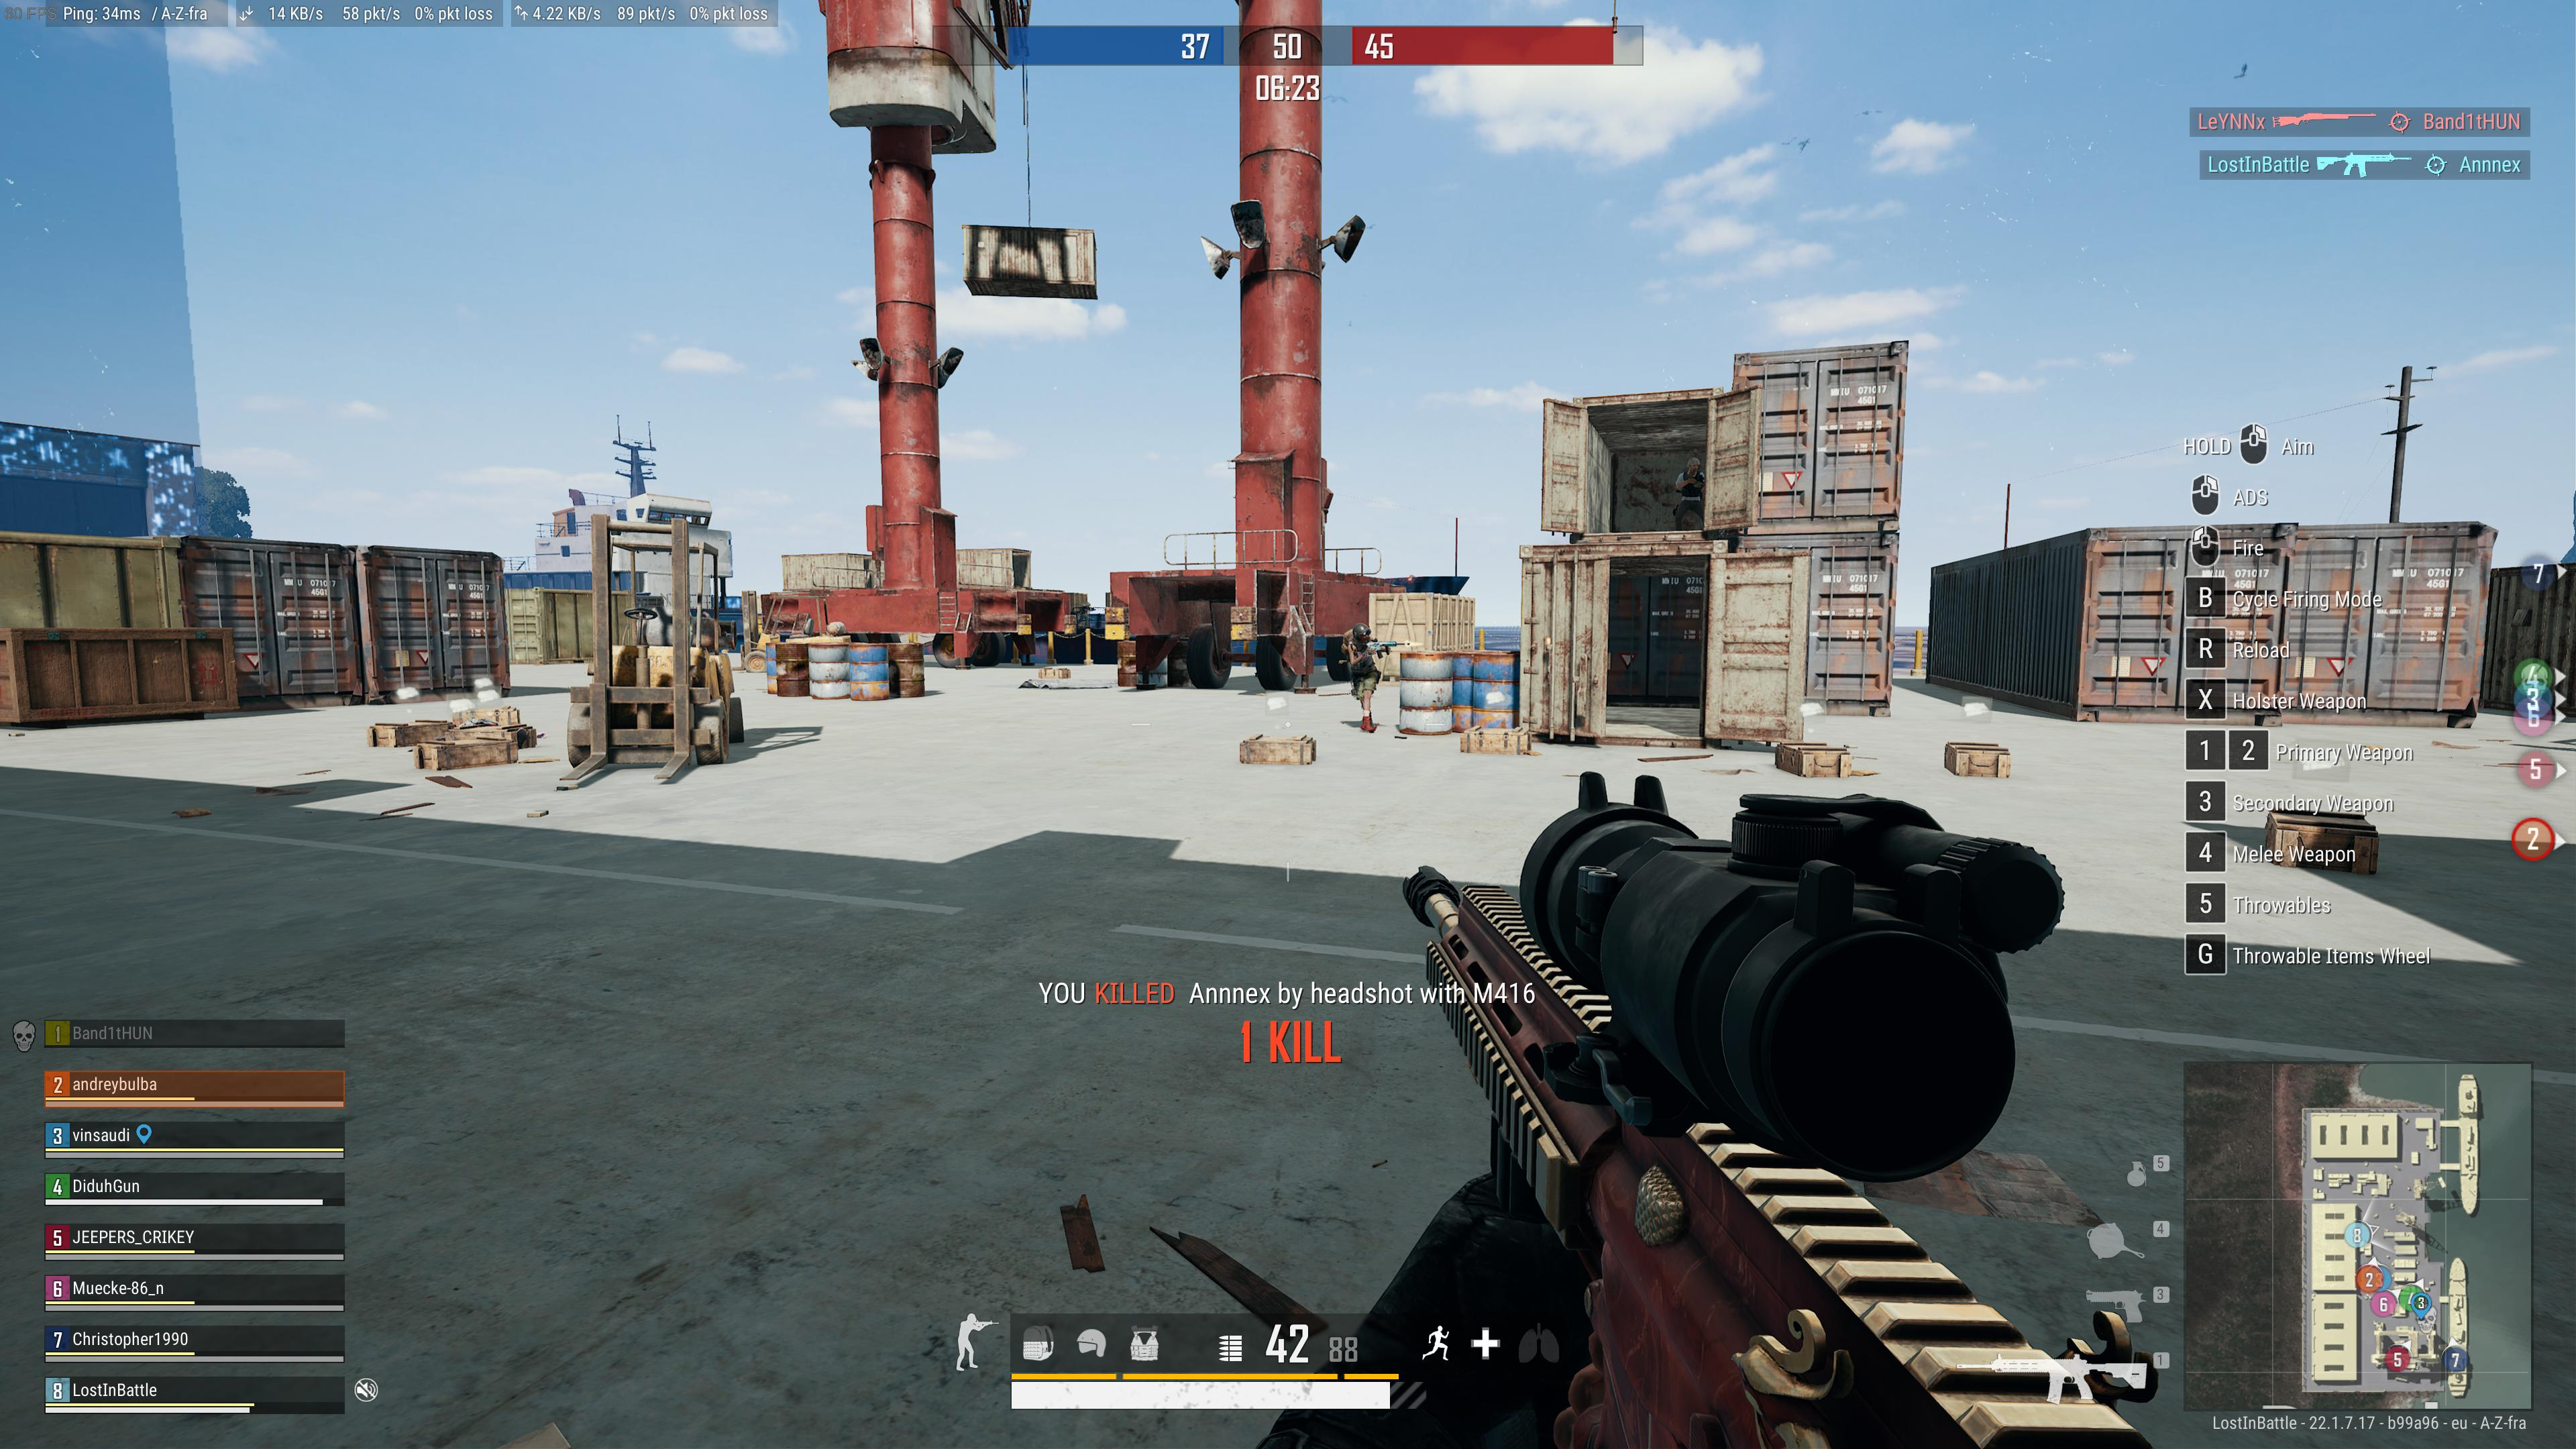enemy: (1338, 621, 1391, 732), (1672, 456, 1704, 531)
enemy_head: (1352, 621, 1371, 644), (1684, 456, 1700, 474)
